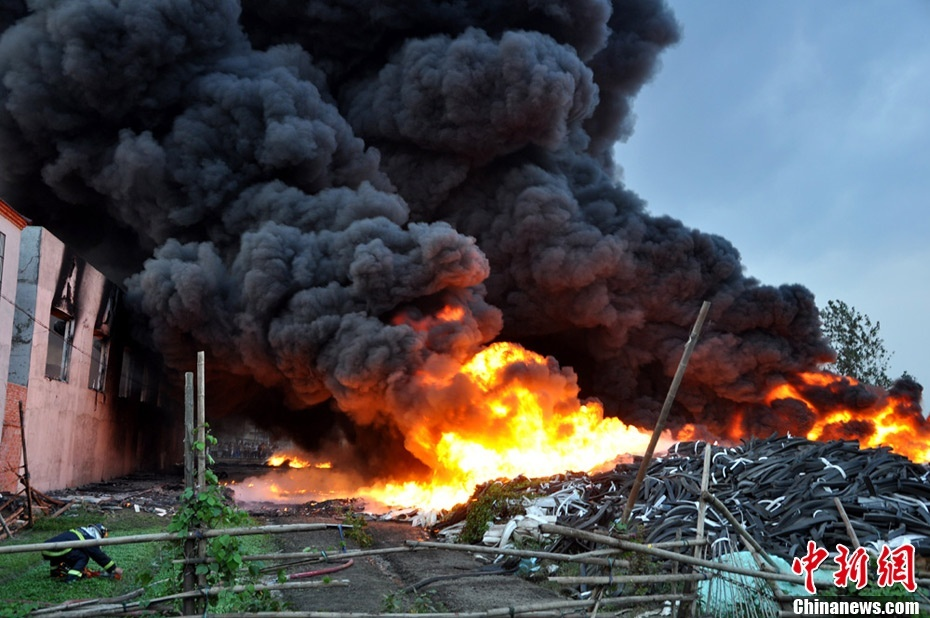fire: (368, 345, 651, 517), (762, 368, 928, 460)
